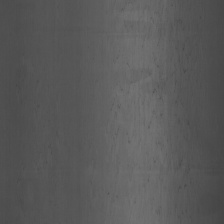silk_spot: (107, 58, 196, 194), (138, 14, 192, 57)
